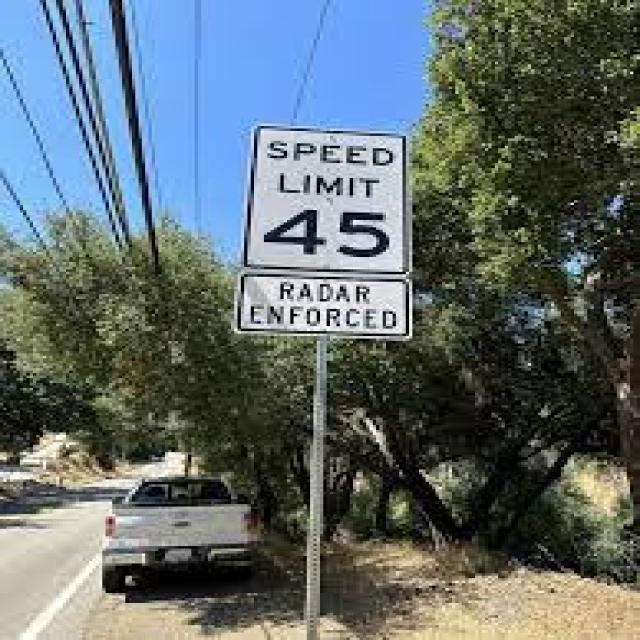Speed Limit Signs: (248, 121, 418, 274)
